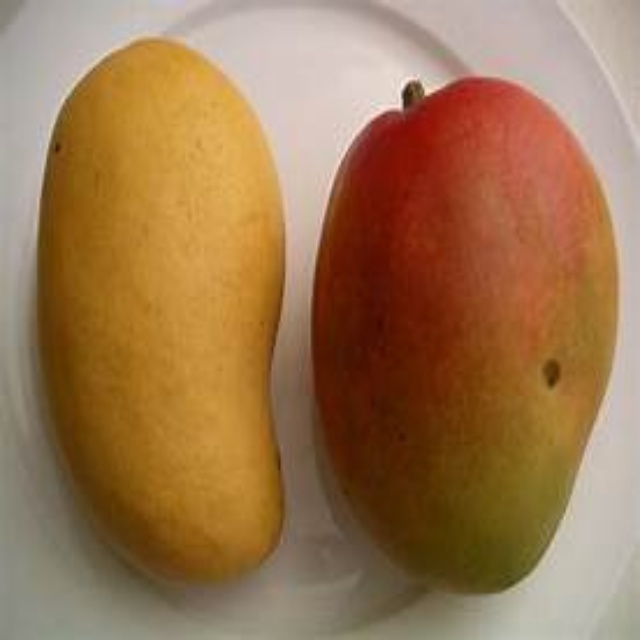mango: (313, 85, 618, 596), (41, 35, 281, 578)
